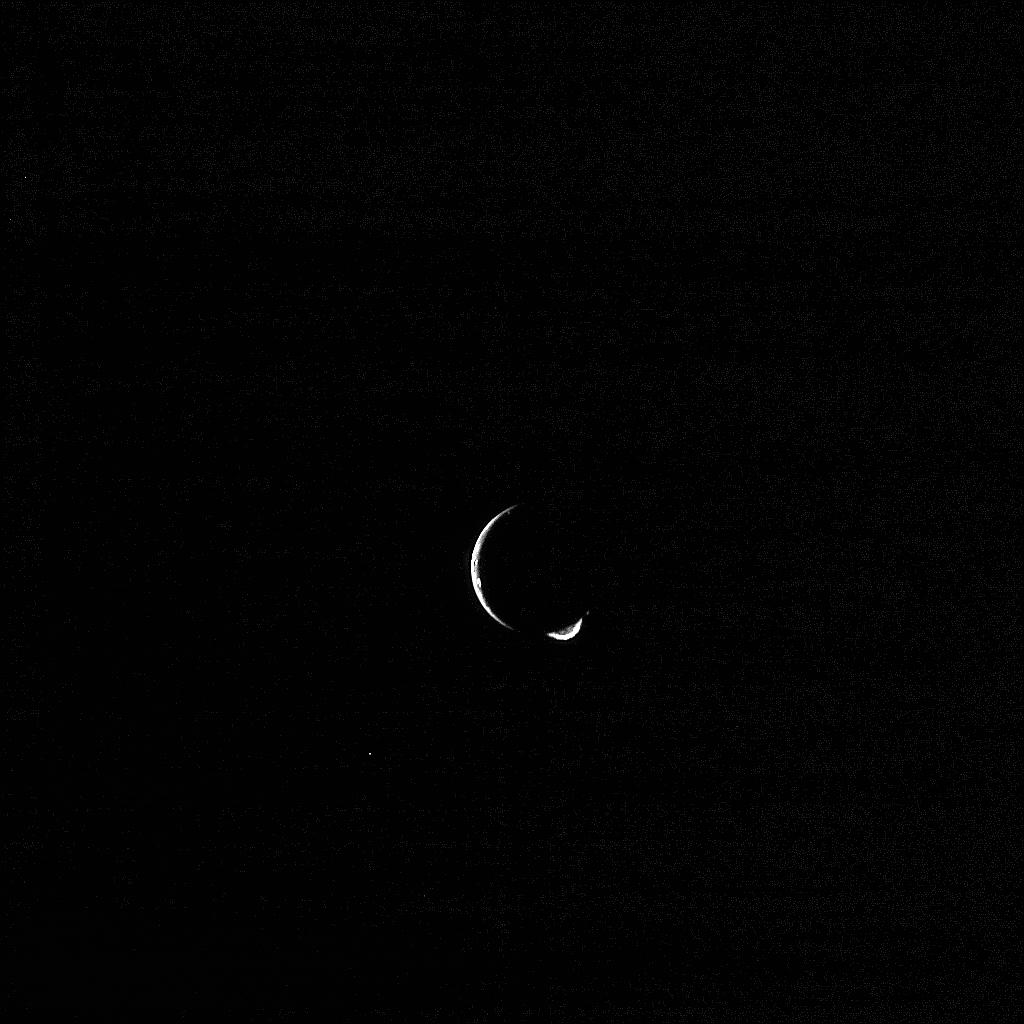plumes: (547, 618, 583, 642), (586, 610, 590, 615)
